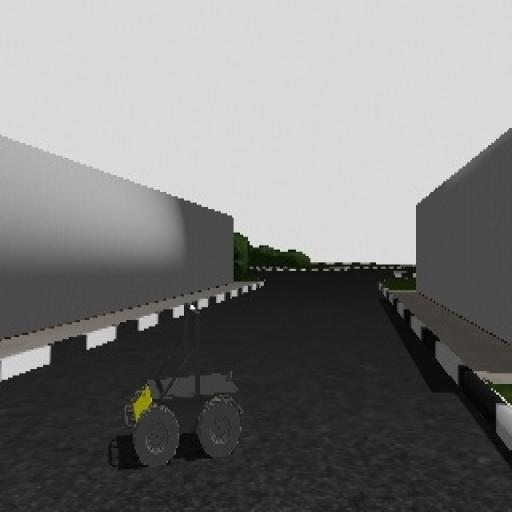huskya200: (122, 289, 250, 463)
